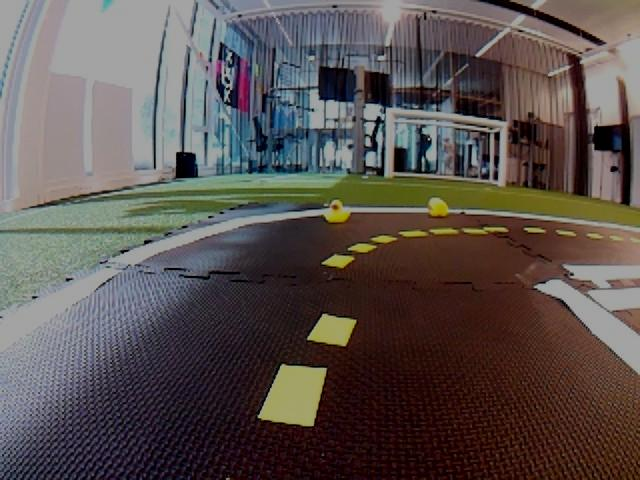Duckies: (324, 200, 351, 224), (428, 198, 450, 217)
